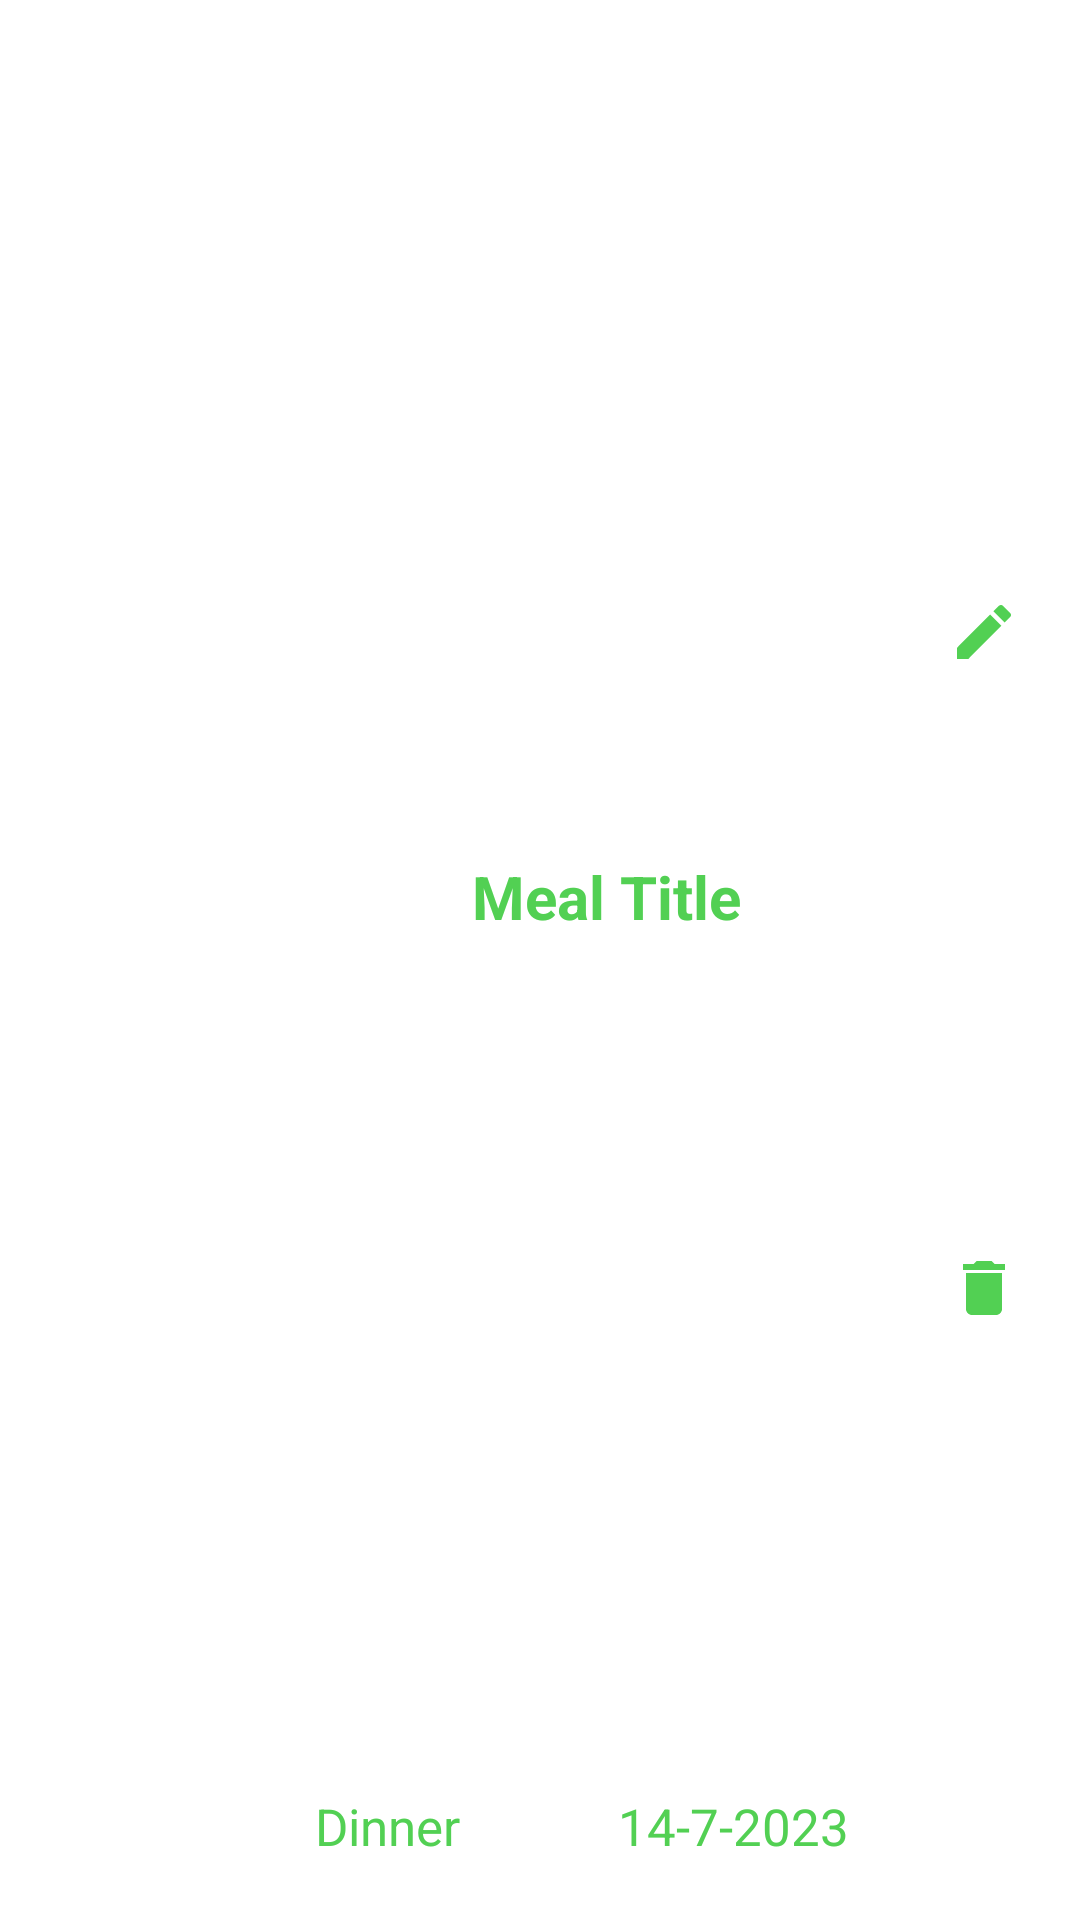

Point at icon controls on the screen. Image size 1080×1920, points as [x,y].
delete: [984,1288]
edit: [984,632]
